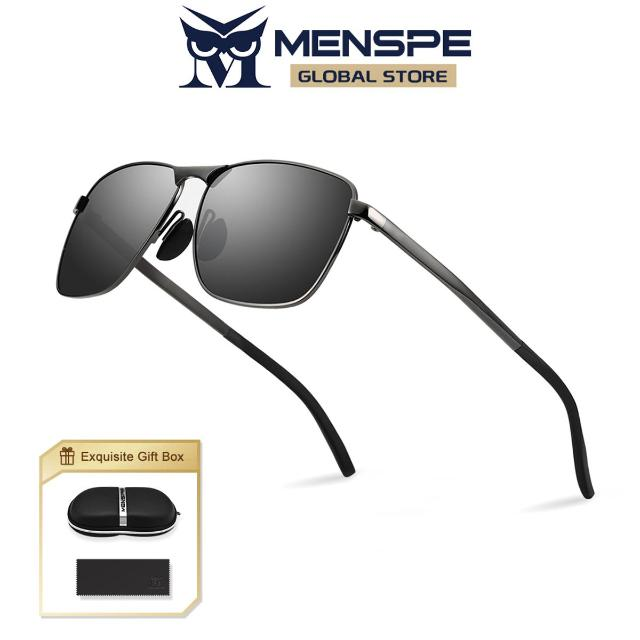Sunglasses: (57, 158, 596, 502)
